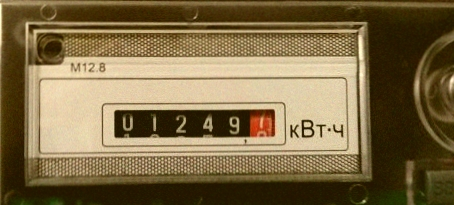0: (120, 111, 134, 131)
1: (147, 111, 159, 132)
2: (172, 112, 189, 134)
4: (201, 111, 214, 132)
7: (255, 108, 268, 128)
9: (227, 113, 241, 134)
screen: (98, 97, 290, 148)
